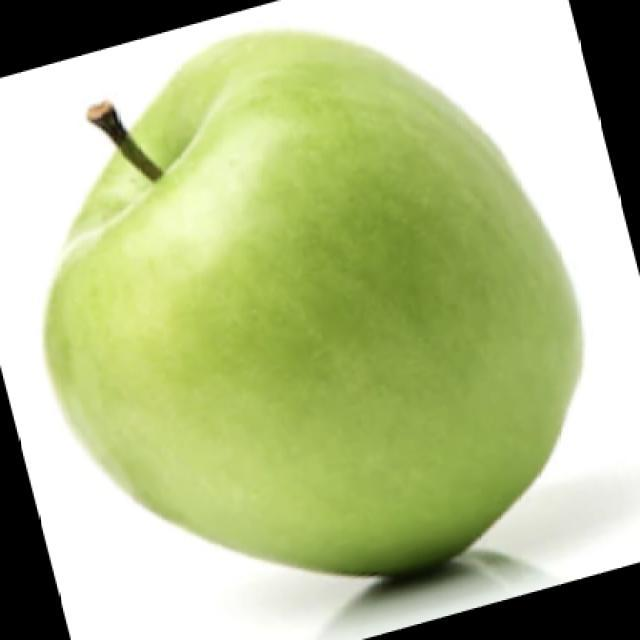Fresh Apple: (54, 33, 578, 580)
